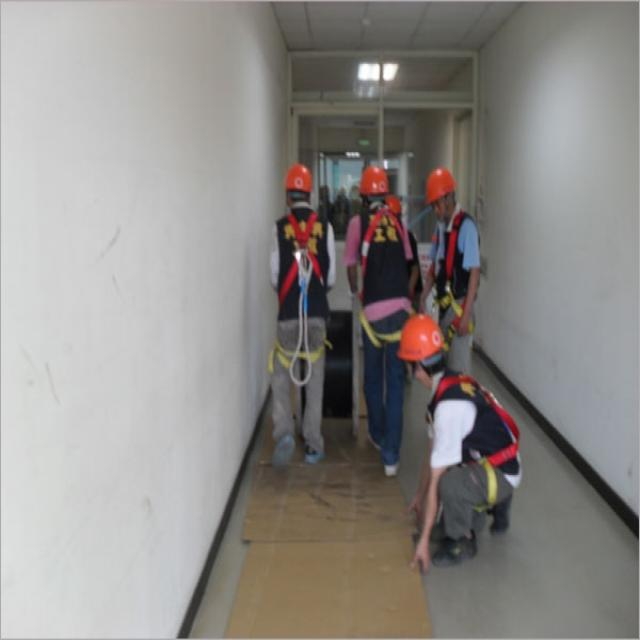Reflective-Jacket: (424, 371, 524, 482), (270, 209, 334, 324), (354, 212, 413, 310)
Safety-Helmet: (395, 312, 449, 368), (424, 165, 458, 205), (358, 162, 392, 199), (282, 161, 314, 196)
